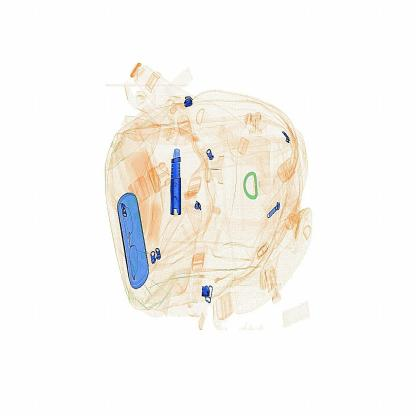pliers: (164, 139, 191, 227)
